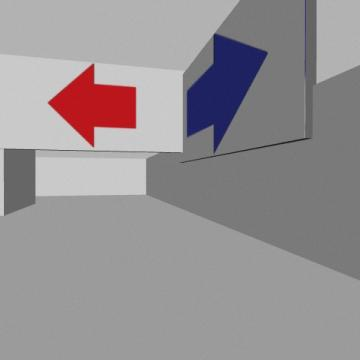blue_right: (187, 34, 267, 152)
red_left: (48, 64, 136, 146)
